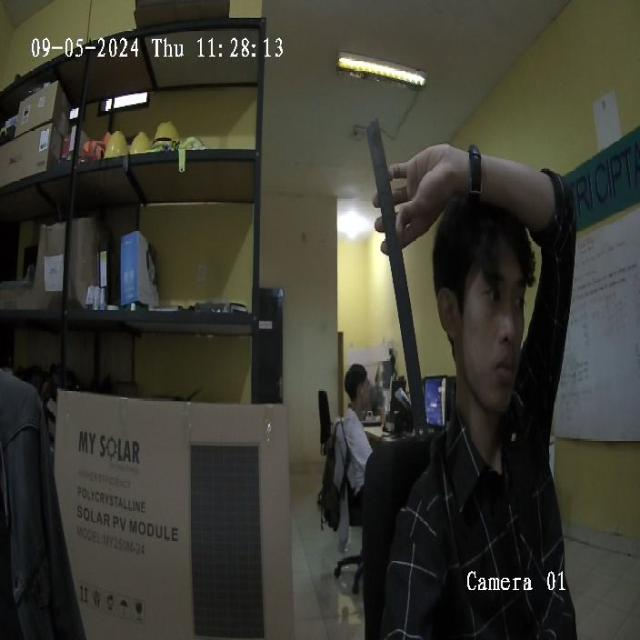Ruler: (367, 120, 425, 428)
